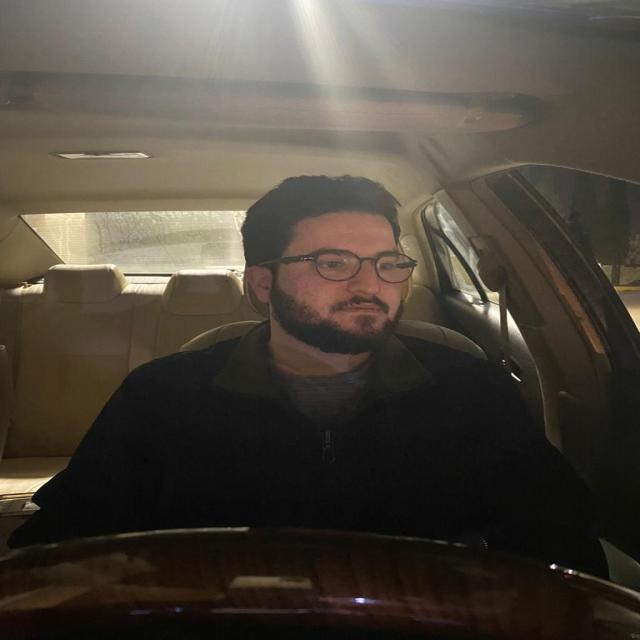person: (238, 178, 420, 350)
